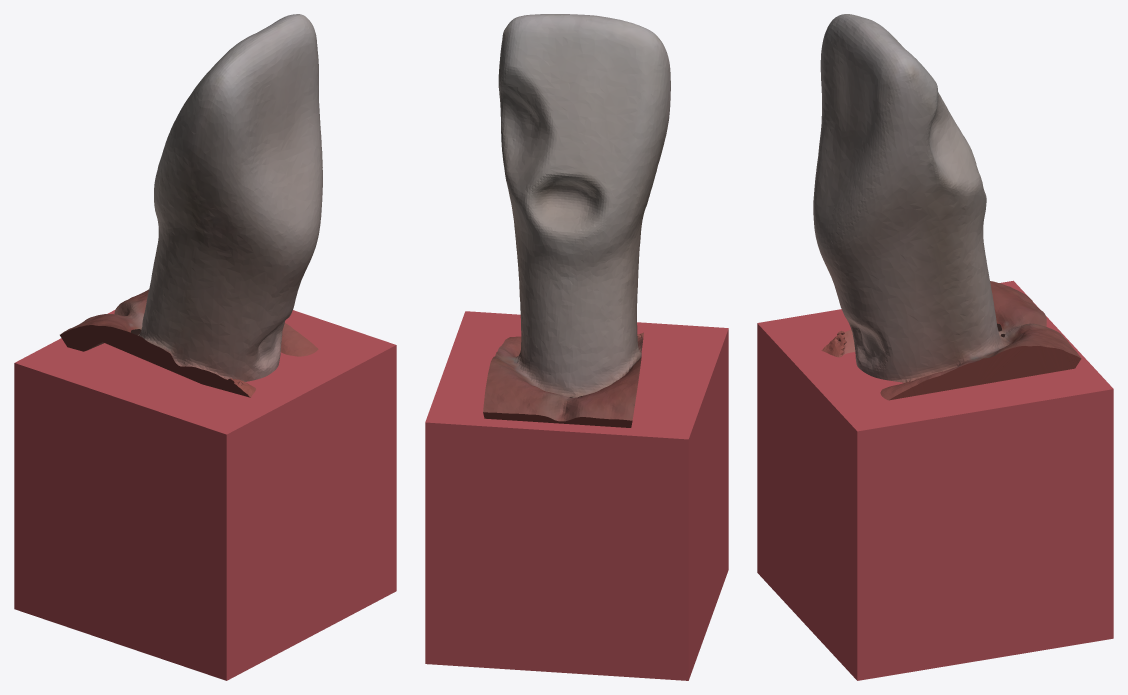
File: PC clase III.glb
3 views of the same model, side by side, from view 1: azimuth 30°, elevation 25°; view 2: azimuth 150°, elevation 25°; view 3: azimuth 270°, elevation 25° (orthographic). The views are drawn at different scales.
Parts seen in each view (by area): view 1: CLASE V - corte -combinado; view 2: CLASE V - corte -combinado; view 3: CLASE V - corte -combinado.
Part boxes in pixels (x1,y1,x2,y2): CLASE V - corte -combinado: (14,14,396,680); CLASE V - corte -combinado: (425,14,728,680); CLASE V - corte -combinado: (757,14,1113,680).
Bounding box in the file's own units: 12.95 × 23.67 × 12.95.
